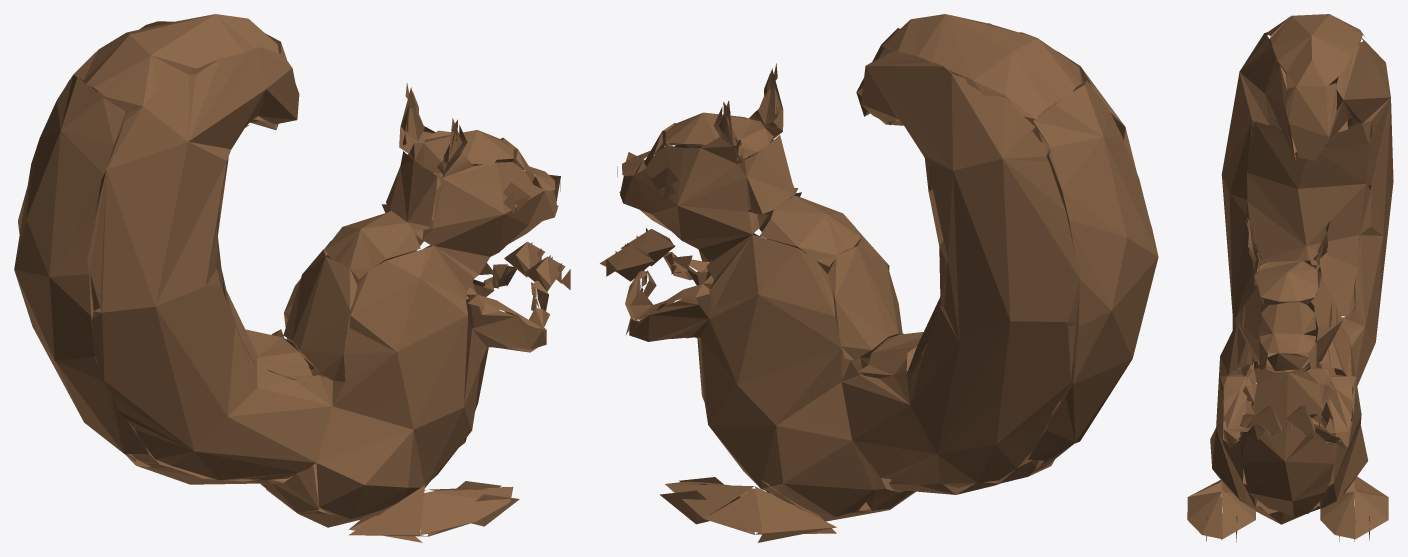
File: campus-squirrel.glb
3 views of the same model, side by side, from view 1: azimuth 30°, elevation 25°; view 2: azimuth 150°, elevation 25°; view 3: azimuth 270°, elevation 25° (orthographic). The views are drawn at different scales.
Parts seen in each view (by area): view 1: Campus squirrel - CC0 source; view 2: Campus squirrel - CC0 source; view 3: Campus squirrel - CC0 source.
Part boxes in pixels (<box>): Campus squirrel - CC0 source: <box>14,14,570,542</box>; Campus squirrel - CC0 source: <box>600,14,1158,542</box>; Campus squirrel - CC0 source: <box>1187,14,1393,542</box>.
Bounding box in the file's own units: 0.55 × 0.5358 × 0.2304.
